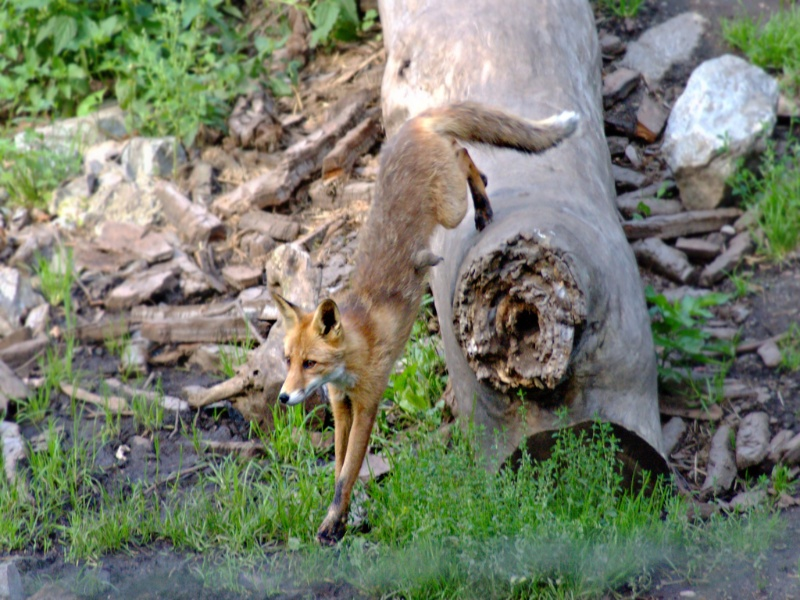fox: (274, 82, 586, 555)
